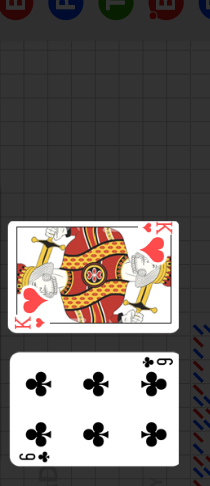6C: (18, 449, 52, 463)
KH: (141, 221, 174, 235)
